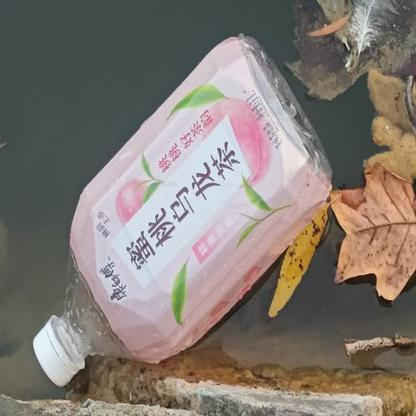plastic bottle: (32, 34, 334, 388)
